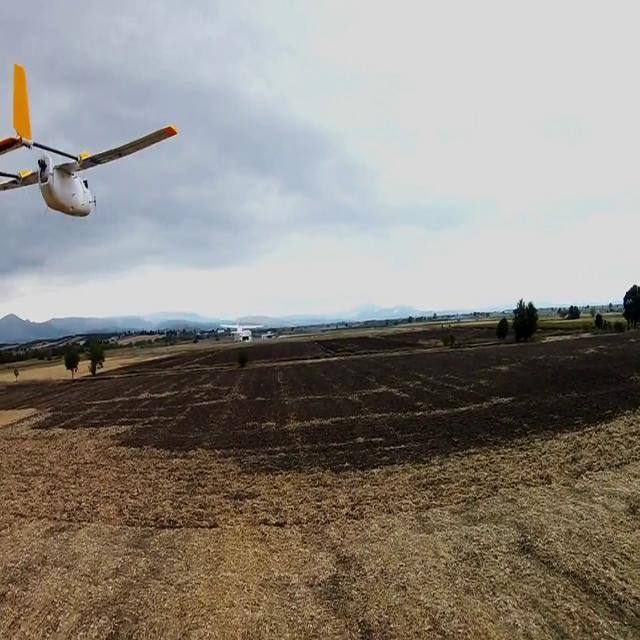iha: (0, 35, 124, 253)
